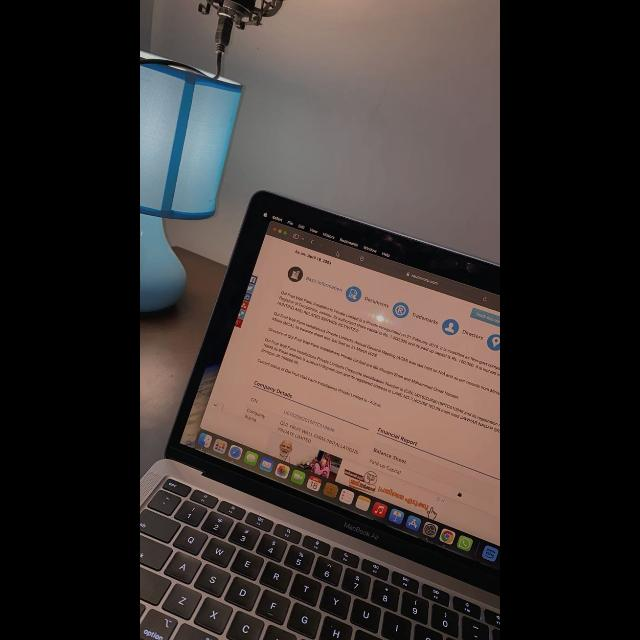laptop: (140, 191, 500, 640)
